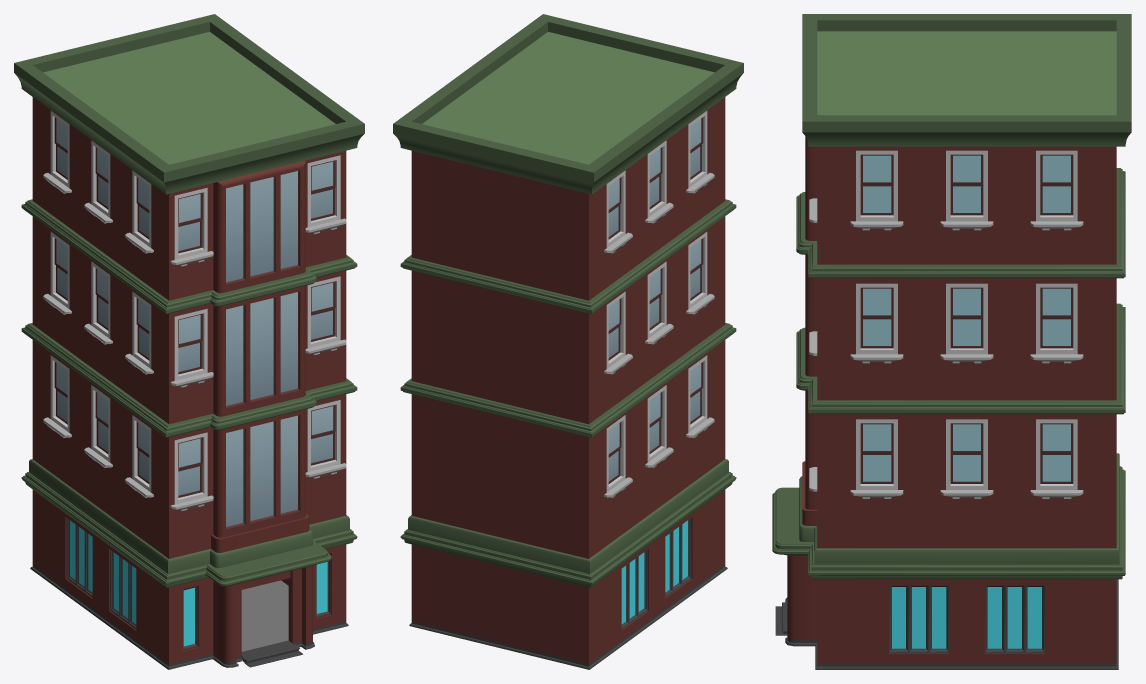
File: SM_Buildings_House_04_V1.fbx
The picture shows the model from 3 angles, left to right: view 1: azimuth 30°, elevation 25°; view 2: azimuth 150°, elevation 25°; view 3: azimuth 270°, elevation 25°; orthographic projection. The views are drawn at different scales.
Visible parts, largest first — view 1: SM_Buildings_House_04_V1; view 2: SM_Buildings_House_04_V1; view 3: SM_Buildings_House_04_V1.
Part boxes in pixels (x1,y1,x2,y2): SM_Buildings_House_04_V1: [14, 14, 364, 669]; SM_Buildings_House_04_V1: [393, 14, 743, 669]; SM_Buildings_House_04_V1: [772, 14, 1131, 669].
Size of the model in its own units: 8.5 by 20.4 by 12.
